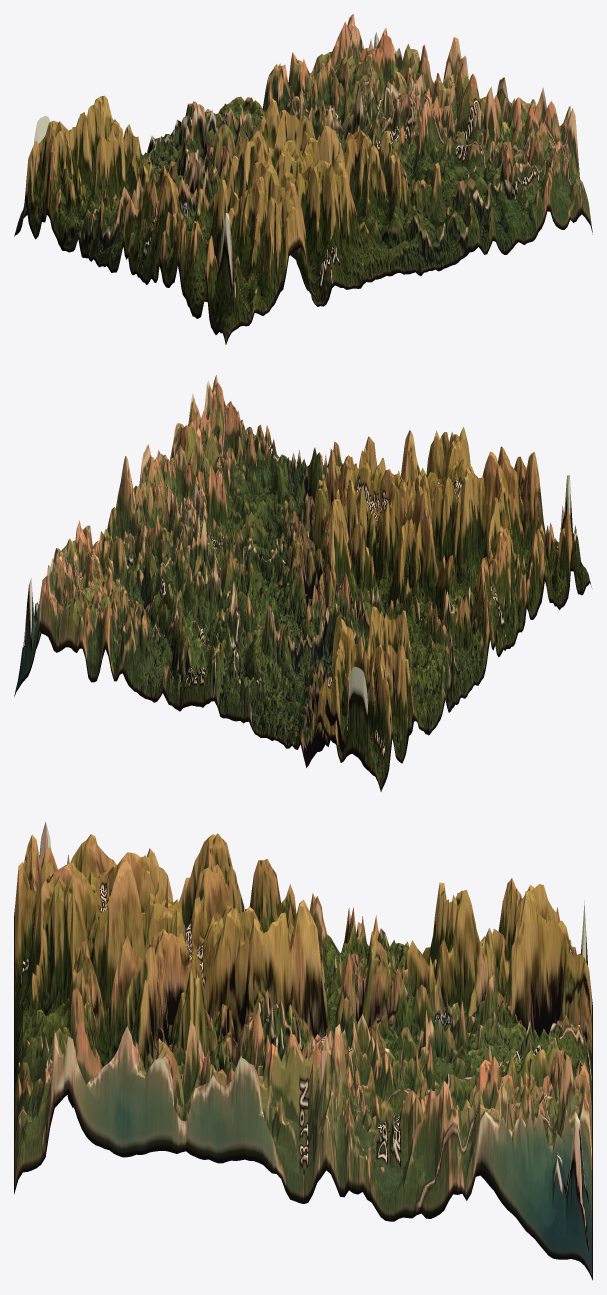
Rendered from terrain-lod3.glb.
3 views of the same model, one above another, from view 1: azimuth 30°, elevation 25°; view 2: azimuth 150°, elevation 25°; view 3: azimuth 270°, elevation 25° (orthographic). The views are drawn at different scales.
Visible parts, largest first — view 1: geometry_0; view 2: geometry_0; view 3: geometry_0.
Part boxes in pixels (box(x1,y1,x2,y2)): geometry_0: box(14, 14, 592, 344); geometry_0: box(14, 375, 591, 791); geometry_0: box(14, 821, 592, 1280).
Size of the model in its own units: 2046 by 1077 by 2046.
1 material, 1 textured.
